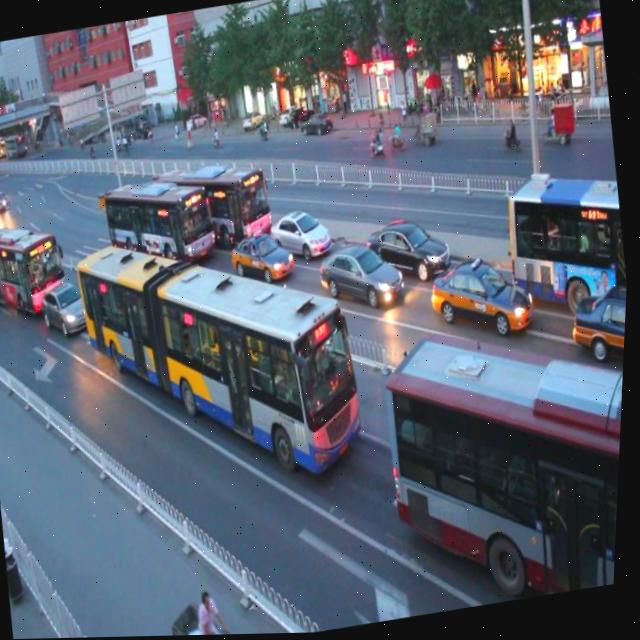car: (427, 251, 541, 356), (314, 236, 407, 322), (366, 212, 457, 292), (566, 284, 630, 362), (227, 224, 298, 293), (266, 202, 335, 271), (41, 277, 100, 341)
van: (66, 203, 379, 512), (374, 308, 629, 620), (500, 165, 634, 314), (98, 164, 223, 285), (154, 149, 279, 262), (0, 210, 71, 314)
